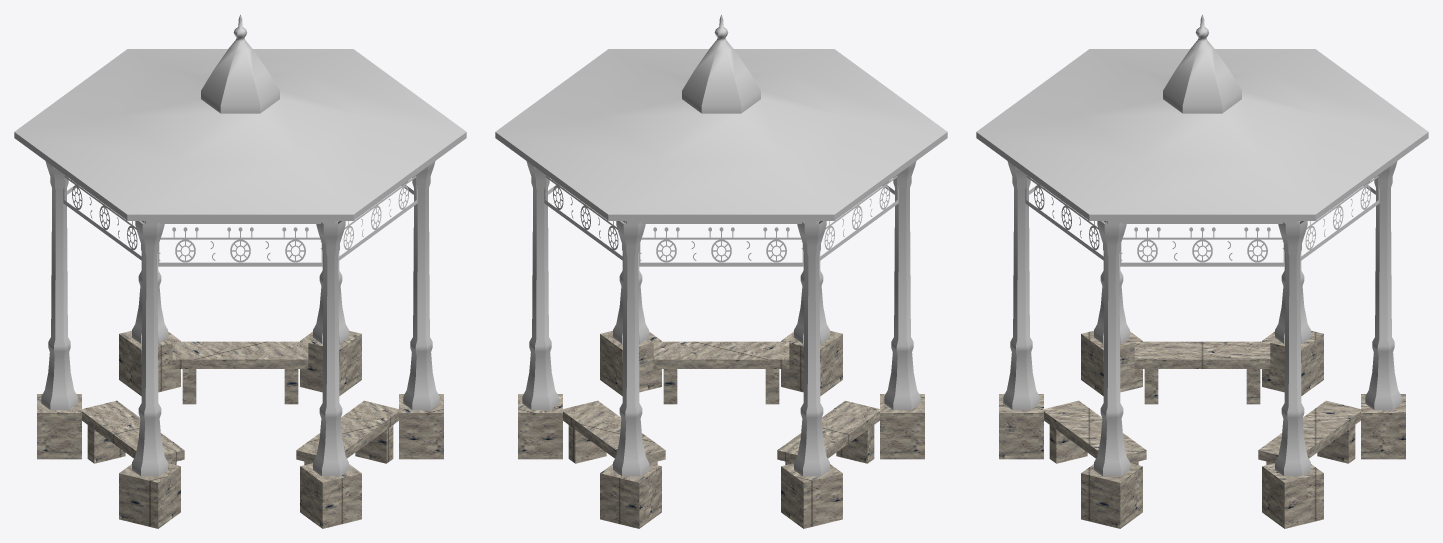
The model's file is SM_Morin_Gazebo_LOD1.fbx.
The picture shows the model from 3 angles, left to right: view 1: azimuth 30°, elevation 25°; view 2: azimuth 150°, elevation 25°; view 3: azimuth 270°, elevation 25°; orthographic projection.
Visible parts, largest first — view 1: SM_Morin_Gazebo_LOD1; view 2: SM_Morin_Gazebo_LOD1; view 3: SM_Morin_Gazebo_LOD1.
Boxes of the visible parts, bbox=[...] form: SM_Morin_Gazebo_LOD1: bbox=[14, 14, 466, 528]; SM_Morin_Gazebo_LOD1: bbox=[495, 14, 947, 528]; SM_Morin_Gazebo_LOD1: bbox=[976, 14, 1428, 528].
Size of the model in its own units: 346 by 400 by 425.
3 materials, 1 textured.
